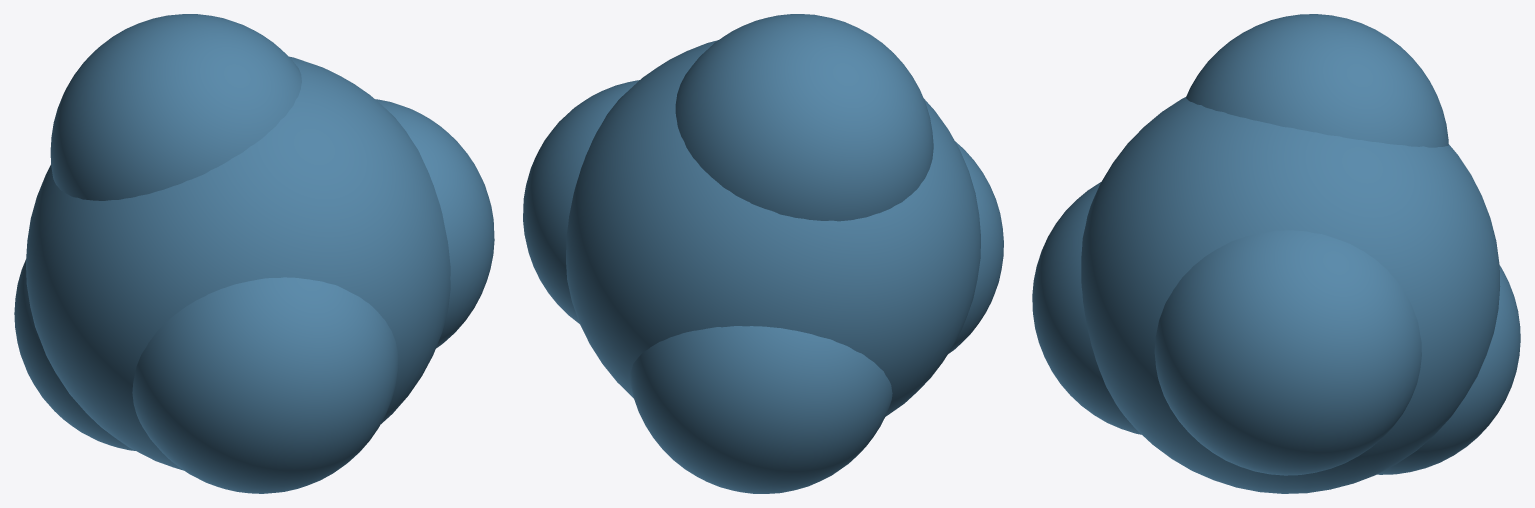
File: Metano-CPK-print_NIH3D.glb
3 views of the same model, side by side, from view 1: azimuth 30°, elevation 25°; view 2: azimuth 150°, elevation 25°; view 3: azimuth 270°, elevation 25° (orthographic). The views are drawn at different scales.
Visible parts, largest first — view 1: atoms; view 2: atoms; view 3: atoms.
Part boxes in pixels (x1,y1,x2,y2): atoms: (14,14,494,493); atoms: (523,14,1003,493); atoms: (1032,14,1520,493).
Bounding box in the file's own units: 3.87 × 3.85 × 3.91.
